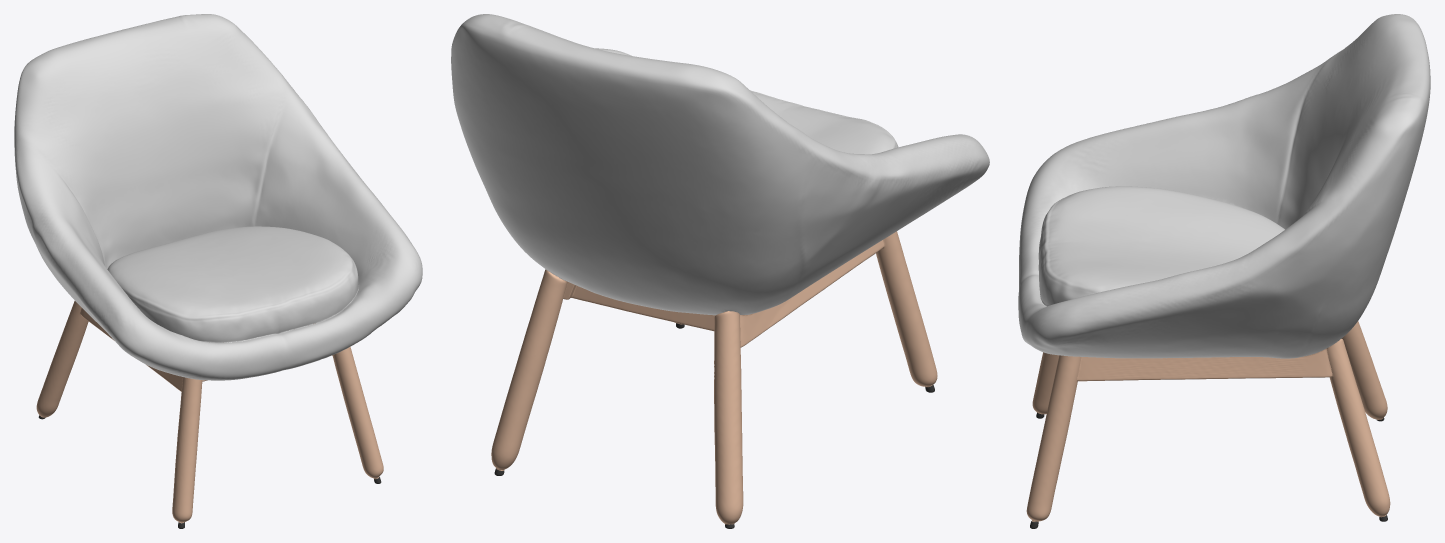
File: SBH_ALBURY.glb
3 views of the same model, side by side, from view 1: azimuth 30°, elevation 25°; view 2: azimuth 150°, elevation 25°; view 3: azimuth 270°, elevation 25° (orthographic). The views are drawn at different scales.
Parts seen in each view (by area): view 1: ALBURY; view 2: ALBURY; view 3: ALBURY.
Part boxes in pixels (bbox=[...]): ALBURY: bbox=[14, 14, 422, 528]; ALBURY: bbox=[451, 14, 989, 528]; ALBURY: bbox=[1018, 14, 1430, 528].
Bounding box in the file's own units: 0.7362 × 0.8054 × 0.7264.
